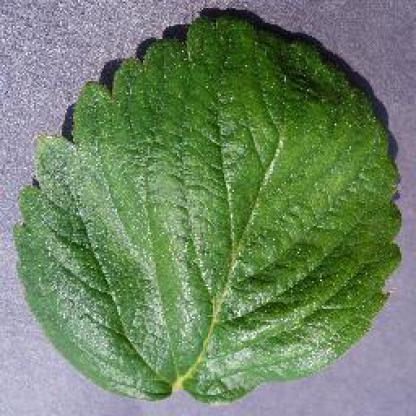healthy: (8, 5, 410, 408)
